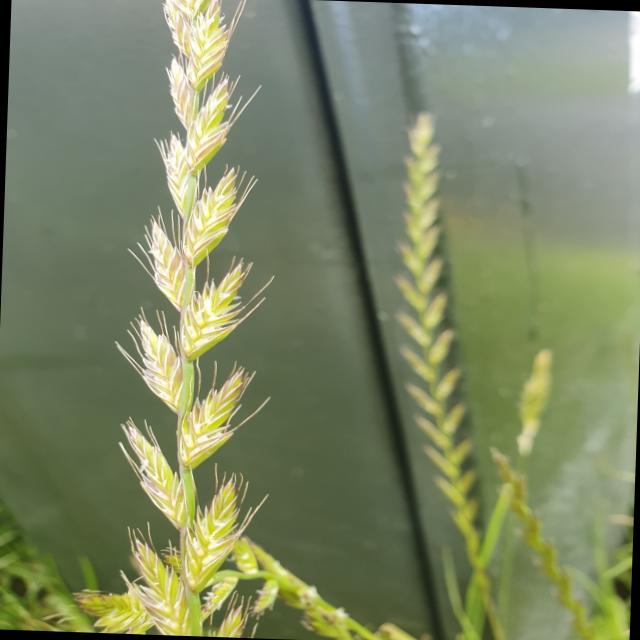Lolium: (66, 0, 294, 637), (383, 110, 551, 640)
